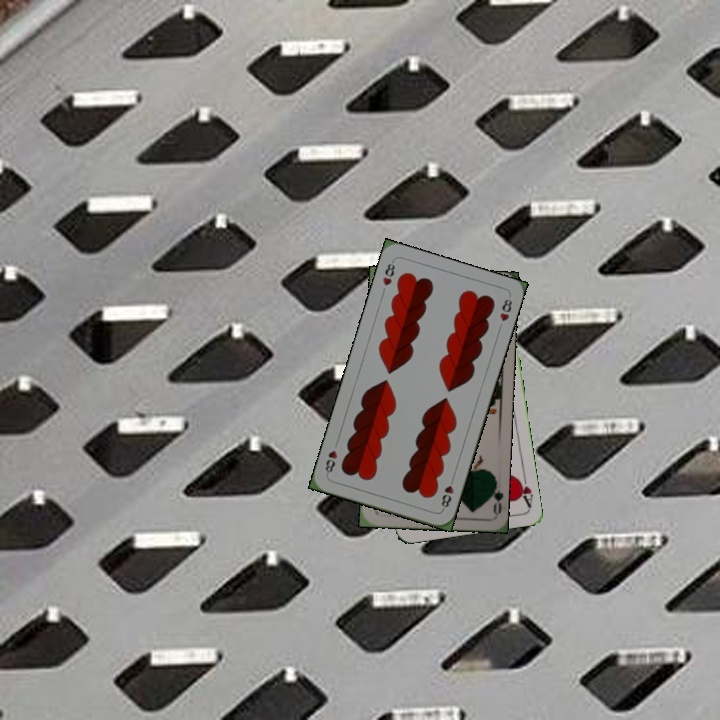GO: (484, 475, 504, 516)
H8: (437, 473, 457, 512), (378, 257, 398, 288)
HA: (513, 469, 535, 509)
